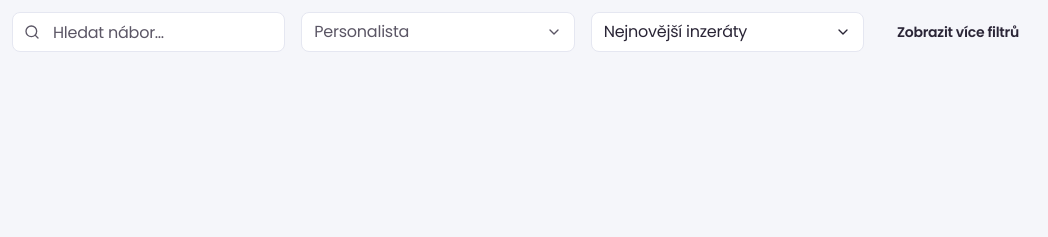
Test: JobsFilter › renders a subtitle under a sort option and lists the extra sort choices
The width and height of the screenshot is (1048, 237).
Click the button with aria-label "Řazení" at (727, 32), box [591,12,864,52]
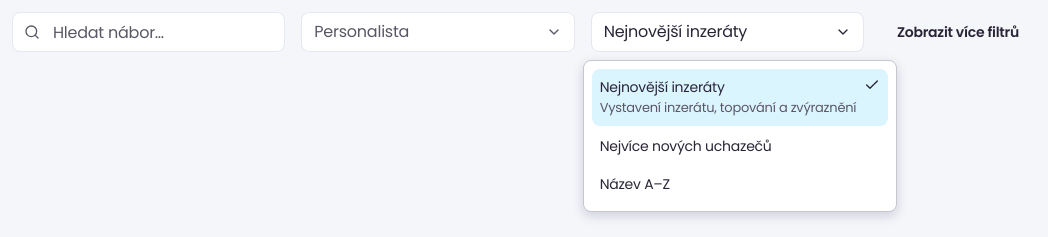
Expected: the text with test id "option-description" reads "Vystavení inzerátu, topování a zvýraznění", [600,98,856,117]
Expected: the option "Nejvíce nových uchazečů" is shown, [592,128,888,164]
Expected: the option "Název A–Z" is shown, [592,166,888,203]
